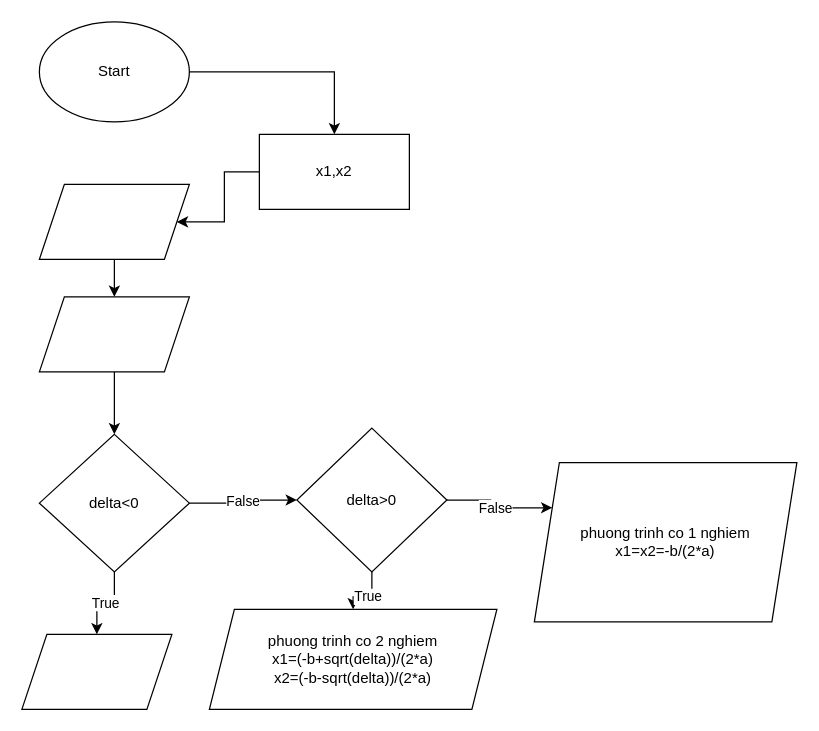
This 819x731 diagram has some shape labels left out. The shapes that lost their labels are listed below. From the top down, each one's centre as x and y in pixels, then its label:
(113,221): a,b,c
(113,334): deta=b*b-4*a*c
(96,671): Phuong trinh vo nghiem
